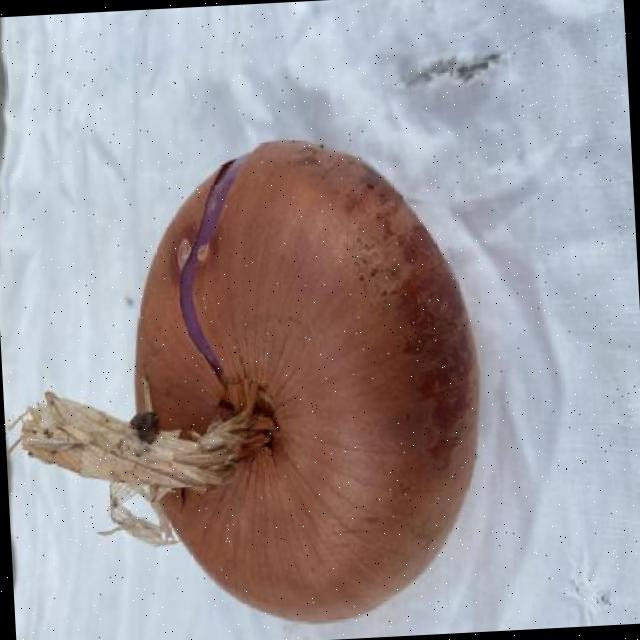Onion: (18, 139, 477, 621)
